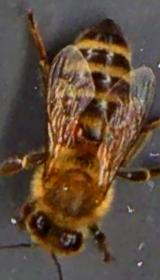varroa_mite: (59, 114, 86, 142)
